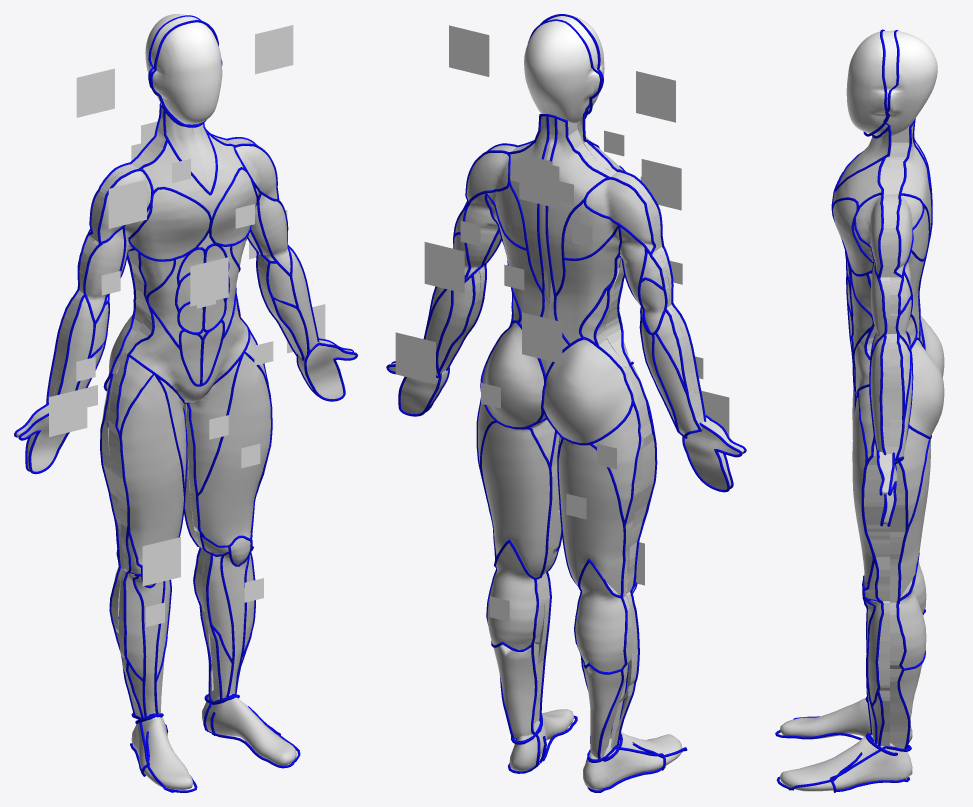
File: female_05.glb
3 views of the same model, side by side, from view 1: azimuth 30°, elevation 25°; view 2: azimuth 150°, elevation 25°; view 3: azimuth 270°, elevation 25° (orthographic). The views are drawn at different scales.
Parts seen in each view (by area): view 1: quadriceps_r, quadriceps_l, head, pelvis_f, chest_r, foot_l, abducter_l.001, trapecius_f, foot_r, neck_f2, forarm1_r, biceps_r (+33 smaller); view 2: hamstring_l, hamstring_r, gluteus_r, head, trapecius_b, calves1_b_r, gluteus_l, calves1_b_l, latisimusDorsi_b_r, foot_r, calves2_b_l, deltoid_b_r (+38 smaller); view 3: head, foot_l, quadriceps_l, gluteus_l, calves1_b_l, hamstring_l, foot_r, trapecius_b, abducter_l, deltoid_f_l, forarm1_l, deltoid_b_l (+32 smaller).
Part boxes in pixels (<box>): quadriceps_r: <box>109,375,183,564</box>; quadriceps_l: <box>190,353,270,545</box>; head: <box>145,14,222,124</box>; pelvis_f: <box>125,300,248,402</box>; chest_r: <box>130,189,209,259</box>; foot_l: <box>202,690,296,765</box>; abducter_l.001: <box>186,361,240,493</box>; trapecius_f: <box>136,135,243,217</box>; foot_r: <box>131,712,193,789</box>; neck_f2: <box>164,113,215,192</box>; forarm1_r: <box>54,293,93,395</box>; biceps_r: <box>82,229,123,320</box>; hamstring_l: <box>482,422,558,577</box>; hamstring_r: <box>558,439,632,597</box>; gluteus_r: <box>543,339,635,442</box>; head: <box>524,16,604,122</box>; trapecius_b: <box>510,116,614,292</box>; calves1_b_r: <box>575,563,632,672</box>; gluteus_l: <box>482,323,543,427</box>; calves1_b_l: <box>487,543,544,649</box>; latisimusDorsi_b_r: <box>556,228,620,343</box>; foot_r: <box>583,732,682,790</box>; calves2_b_l: <box>493,643,539,738</box>; deltoid_b_r: <box>586,174,657,252</box>; head: <box>846,30,937,136</box>; foot_l: <box>780,735,912,791</box>; quadriceps_l: <box>852,397,889,587</box>; gluteus_l: <box>909,340,944,436</box>; calves1_b_l: <box>890,579,926,669</box>; hamstring_l: <box>890,439,930,602</box>; foot_r: <box>780,698,912,741</box>; trapecius_b: <box>890,124,931,229</box>; abducter_l: <box>890,428,928,531</box>; deltoid_f_l: <box>856,194,889,277</box>; forarm1_l: <box>870,334,889,453</box>; deltoid_b_l: <box>890,194,922,277</box>.
Size of the model in its own units: 0.8861 by 1.8 by 0.4122.
